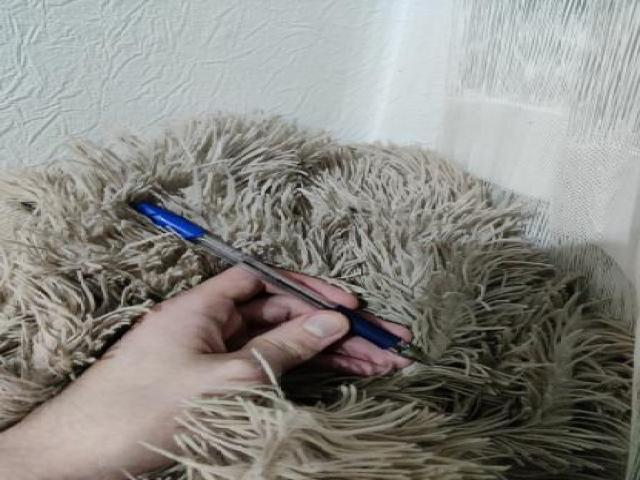PEN: (121, 178, 444, 387)
